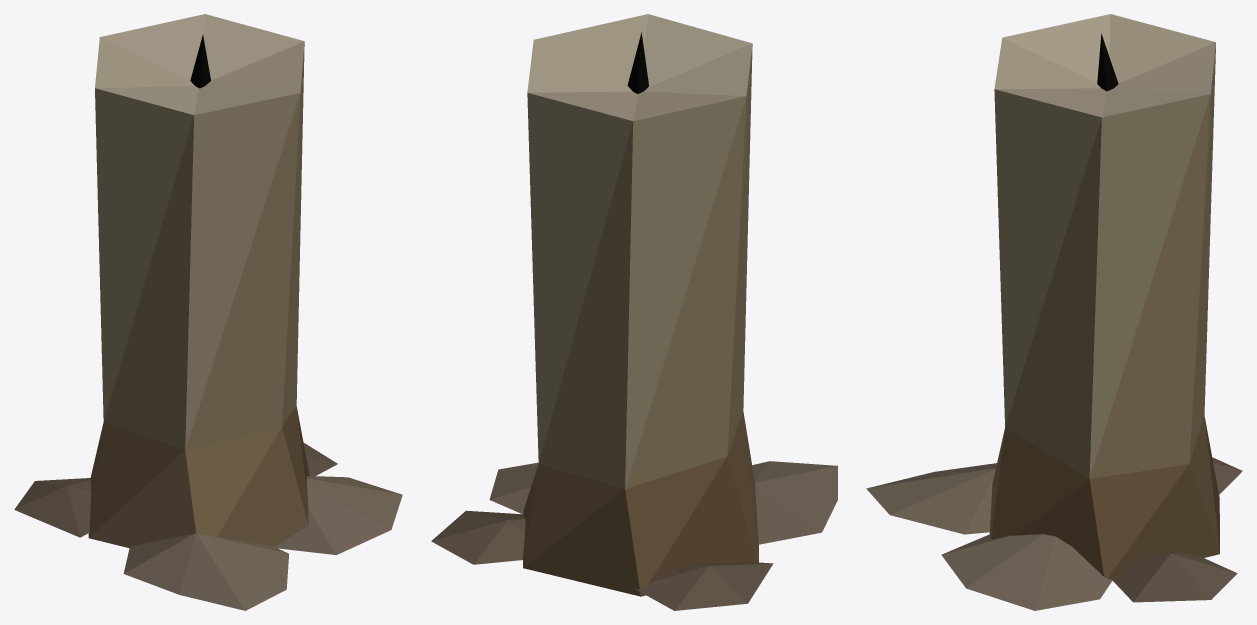
The model's file is prop_lighting_candle1.fbx.
The picture shows the model from 3 angles, left to right: view 1: azimuth 30°, elevation 25°; view 2: azimuth 150°, elevation 25°; view 3: azimuth 270°, elevation 25°; orthographic projection. The views are drawn at different scales.
Parts seen in each view (by area): view 1: prop_lighting_candle1; view 2: prop_lighting_candle1; view 3: prop_lighting_candle1.
Boxes of the visible parts, <box> form: prop_lighting_candle1: <box>14,14,402,610</box>; prop_lighting_candle1: <box>431,14,837,610</box>; prop_lighting_candle1: <box>866,14,1242,610</box>.
Size of the model in its own units: 0.3563 by 0.5212 by 0.3608.
